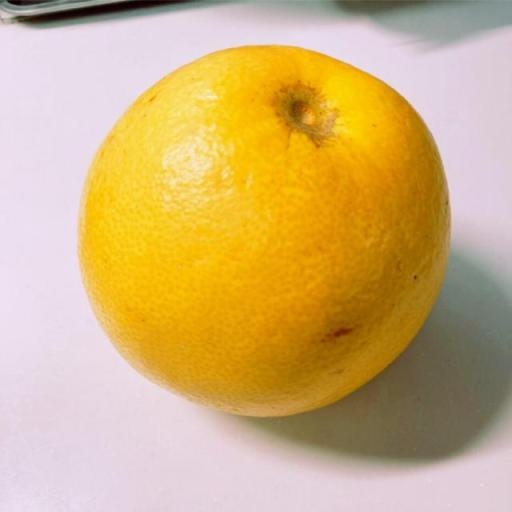fruit: (79, 46, 448, 415)
